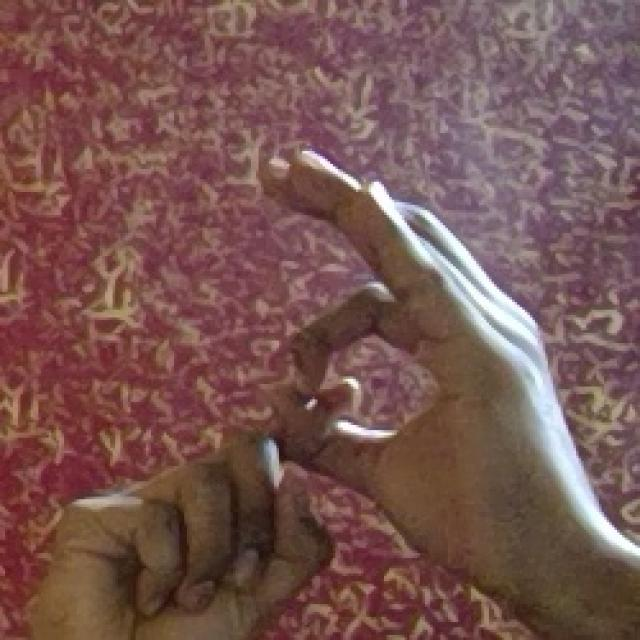Alphabet-Q: (41, 141, 590, 640)
